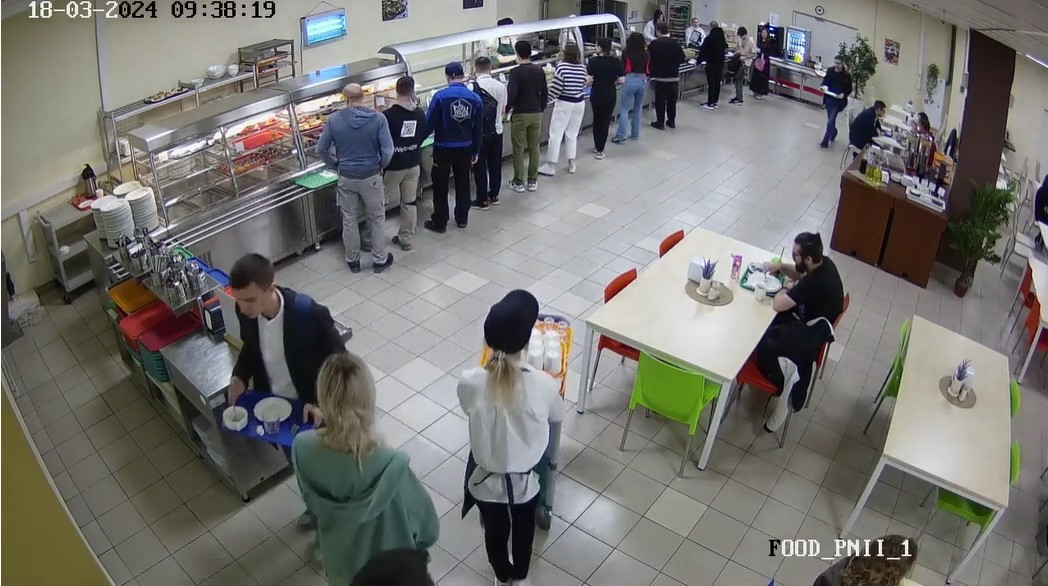Na_Kasse: (700, 15, 725, 112), (752, 20, 771, 98), (733, 24, 749, 105)
Ne_v_Ocheredi: (292, 354, 433, 586), (217, 261, 346, 467), (814, 54, 850, 143)
Personal: (462, 288, 552, 586), (485, 22, 525, 58), (681, 10, 704, 37), (645, 6, 667, 24)
Vybiraet: (320, 80, 398, 273), (380, 73, 431, 257), (496, 34, 547, 192), (433, 61, 476, 231), (546, 38, 589, 182), (471, 59, 503, 209), (584, 40, 622, 157), (647, 20, 683, 131), (620, 26, 647, 148)
Za_Stolom: (757, 219, 851, 333), (786, 523, 919, 586), (852, 95, 888, 164), (1028, 161, 1048, 244), (915, 112, 943, 157)
